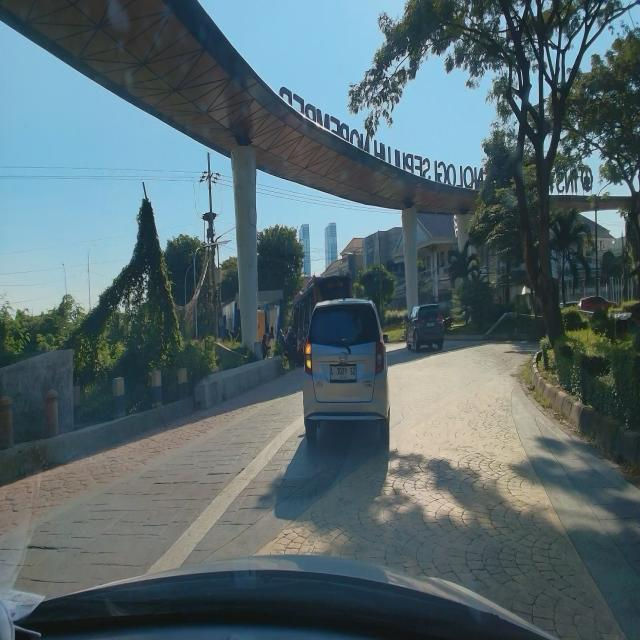car: (302, 296, 392, 447), (404, 302, 446, 352)
license-plate: (329, 364, 358, 384), (425, 321, 436, 329)
